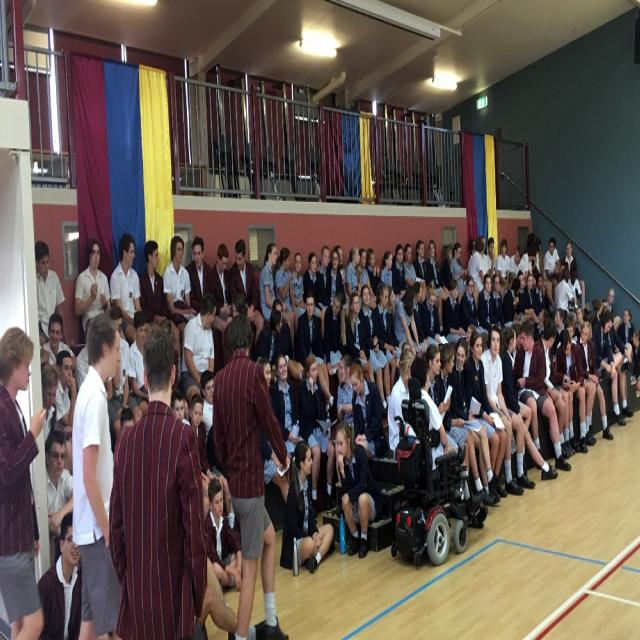body: (106, 324, 208, 639), (214, 299, 292, 639), (70, 311, 123, 640), (0, 322, 47, 639), (410, 356, 487, 515), (432, 343, 488, 525), (433, 342, 494, 508), (479, 322, 536, 496), (448, 340, 502, 508), (513, 323, 572, 474), (279, 438, 337, 575), (462, 329, 508, 501), (513, 324, 559, 470), (334, 419, 380, 562), (138, 238, 182, 380), (36, 511, 82, 640), (299, 353, 336, 512), (294, 289, 336, 417), (533, 319, 570, 462), (256, 357, 291, 504), (162, 234, 198, 370), (576, 318, 614, 442), (203, 477, 243, 592), (358, 283, 392, 415), (562, 317, 595, 447), (258, 242, 296, 353), (348, 360, 390, 460), (556, 330, 589, 456), (228, 236, 265, 348), (180, 295, 217, 405), (74, 238, 111, 344), (593, 310, 626, 427), (601, 304, 634, 421), (187, 392, 223, 498), (111, 232, 144, 346), (35, 240, 69, 348), (272, 351, 305, 462), (386, 346, 416, 462), (43, 428, 75, 536), (209, 242, 234, 372), (274, 245, 301, 354), (184, 234, 219, 317), (346, 291, 376, 384), (371, 282, 396, 390), (128, 310, 150, 417), (450, 240, 480, 314), (289, 250, 311, 350), (394, 283, 422, 359), (322, 292, 347, 377), (53, 348, 78, 432), (336, 352, 362, 431), (40, 311, 76, 368), (426, 237, 448, 330), (40, 365, 59, 457), (254, 309, 284, 367), (196, 595, 233, 640), (443, 277, 467, 345), (344, 246, 366, 320), (408, 280, 430, 354), (301, 250, 326, 315), (384, 285, 403, 364), (272, 297, 294, 363), (421, 278, 442, 346), (478, 271, 495, 350), (317, 246, 335, 320), (198, 370, 215, 444), (460, 274, 480, 334), (325, 248, 344, 311), (542, 235, 561, 298), (356, 247, 377, 303), (335, 243, 351, 311), (554, 266, 576, 314), (468, 236, 486, 294), (391, 242, 408, 302), (498, 275, 515, 329), (489, 271, 504, 330), (532, 271, 551, 317), (366, 247, 383, 298), (503, 276, 521, 324), (402, 242, 420, 289), (449, 241, 464, 297), (518, 244, 538, 286), (496, 237, 512, 288), (566, 264, 582, 315), (413, 238, 428, 290), (514, 268, 530, 314), (561, 238, 578, 278), (617, 307, 635, 344), (526, 229, 543, 267), (484, 236, 498, 282), (108, 404, 131, 432), (160, 389, 180, 418), (509, 243, 526, 277), (379, 249, 393, 289), (524, 272, 538, 312), (600, 285, 615, 317), (228, 290, 246, 315), (545, 269, 557, 306), (633, 329, 640, 392), (412, 280, 423, 320), (554, 308, 569, 331), (467, 238, 478, 268), (463, 319, 477, 342), (573, 300, 587, 322), (590, 295, 602, 317), (273, 297, 286, 312), (515, 329, 523, 352), (387, 285, 394, 309), (400, 339, 413, 351)
